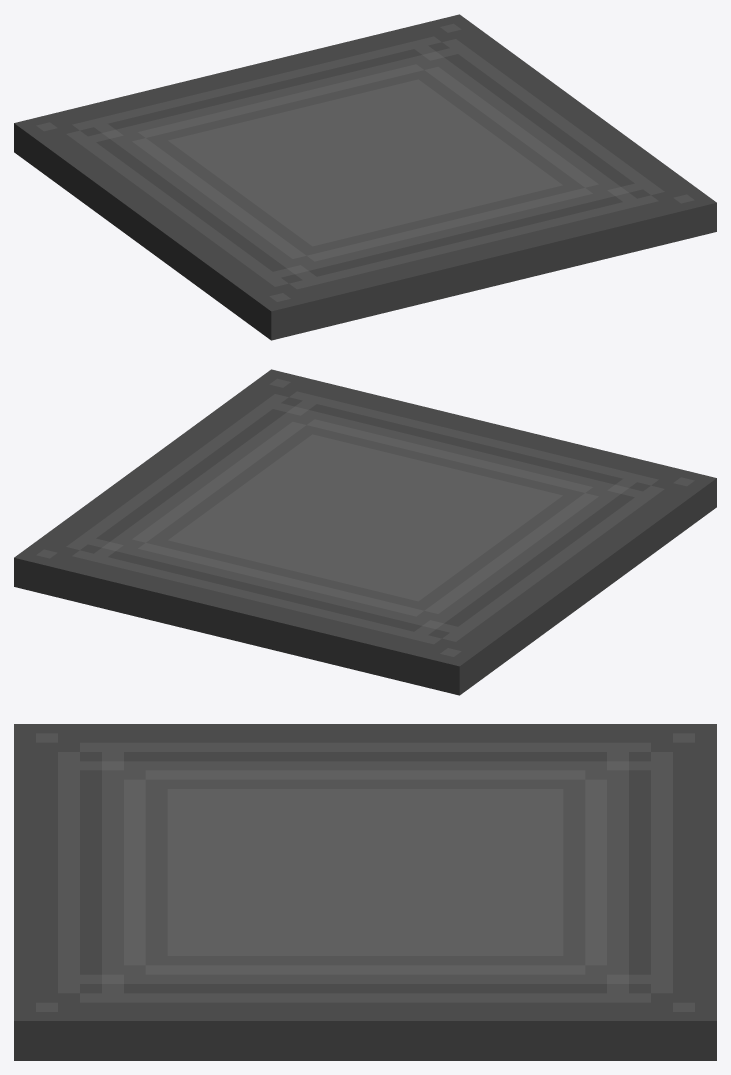
Rendered from tile.obj.
3 views of the same model, one above another, from view 1: azimuth 30°, elevation 25°; view 2: azimuth 150°, elevation 25°; view 3: azimuth 270°, elevation 25° (orthographic). The views are drawn at different scales.
Visible parts, largest first — view 1: tile; view 2: tile; view 3: tile.
Boxes of the visible parts, x1,y1,x2,y2 form: tile: (14, 14, 716, 340); tile: (14, 369, 716, 695); tile: (14, 724, 716, 1060).
Bounding box in the file's own units: 32 × 2 × 32.
1 material, 1 textured.
